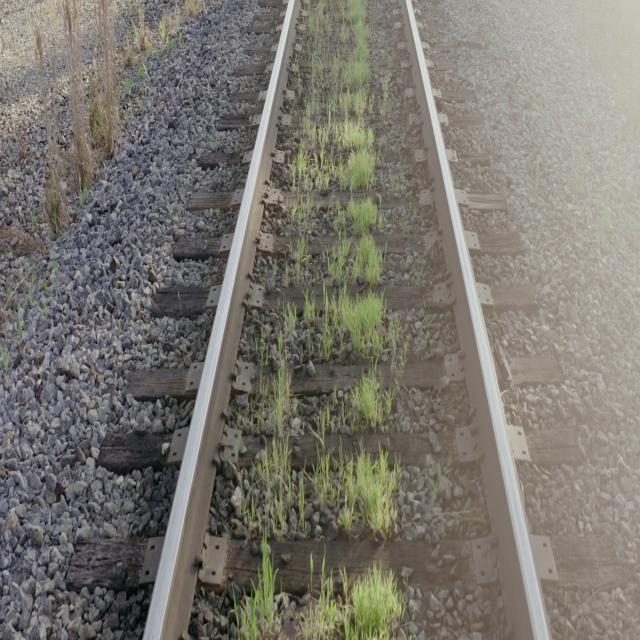Plant: (281, 196, 405, 436), (290, 0, 376, 231), (252, 360, 308, 531), (311, 449, 401, 536), (299, 567, 402, 640), (239, 531, 296, 638), (295, 240, 310, 282)
